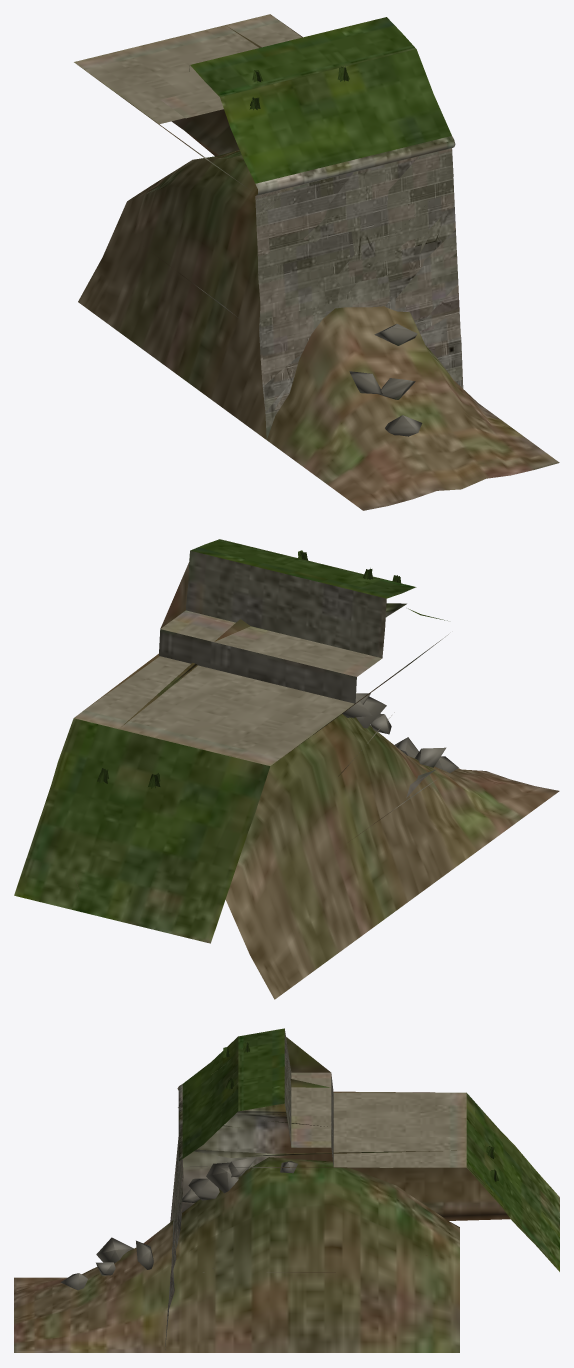
Rendered from starfort_curtain_live.glb.
3 renders of one model, top to bottom at view 1: azimuth 30°, elevation 25°; view 2: azimuth 150°, elevation 25°; view 3: azimuth 270°, elevation 25°, orthographic. The views are drawn at different scales.
Parts seen in each view (by area): view 1: breached, intact, cracked; view 2: breached, intact, cracked, endcap_b; view 3: breached, intact, cracked, endcap_a.
Part boxes in pixels (<box>): breached: <box>78,14,559,510</box>; intact: <box>74,17,460,438</box>; cracked: <box>74,19,459,411</box>; breached: <box>47,539,559,999</box>; intact: <box>44,546,415,943</box>; cracked: <box>14,546,400,942</box>; endcap_b: <box>82,562,189,711</box>; breached: <box>14,1029,559,1352</box>; intact: <box>165,1028,559,1346</box>; cracked: <box>170,1029,559,1290</box>; endcap_a: <box>177,1037,434,1114</box>.
Size of what is drawn, in the model's own units: 4.08 by 6.29 by 12.3.
2 materials, 2 textured.
